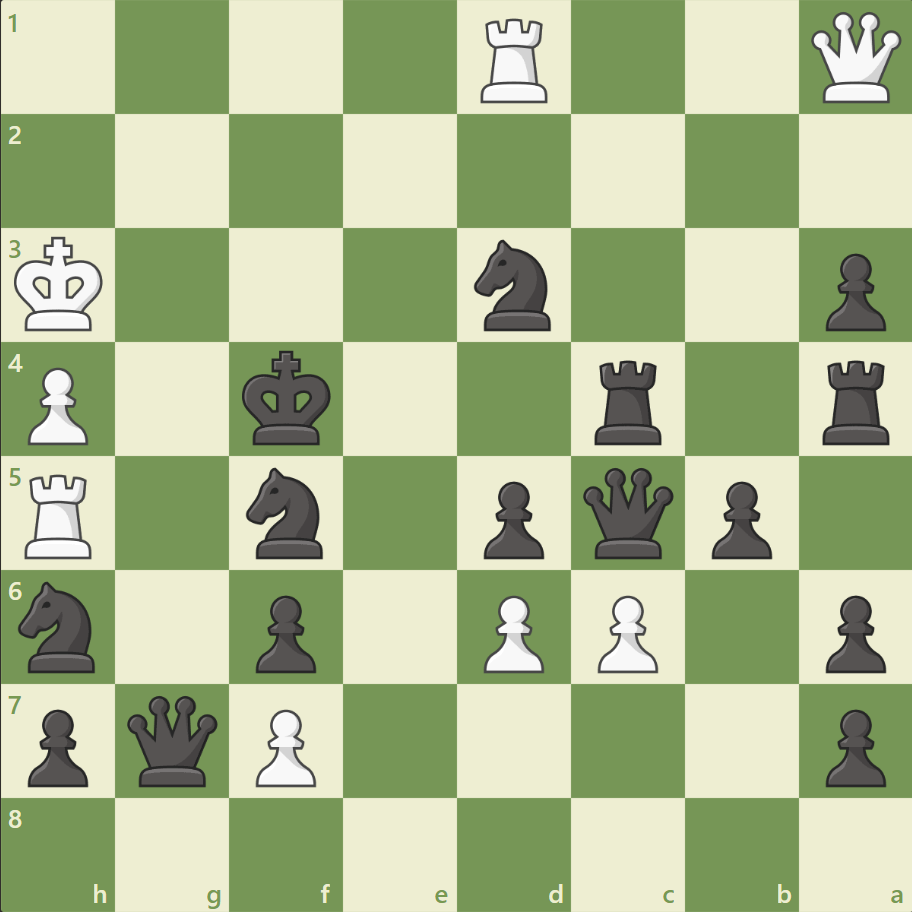K: (11, 231, 111, 339)
P: (247, 700, 322, 791), (474, 586, 549, 677), (20, 359, 95, 450), (588, 586, 662, 677)
Q: (805, 9, 904, 108)
R: (19, 466, 102, 563), (473, 12, 556, 109)
k: (238, 344, 338, 452)
n: (238, 461, 335, 564), (465, 234, 562, 337), (11, 575, 108, 677)
p: (20, 700, 95, 791), (247, 586, 322, 677), (701, 473, 776, 564), (474, 473, 549, 564), (815, 700, 889, 791), (815, 586, 889, 677), (815, 246, 889, 337)
q: (124, 690, 223, 789), (578, 463, 677, 562)
r: (814, 352, 897, 449), (587, 352, 670, 449)
